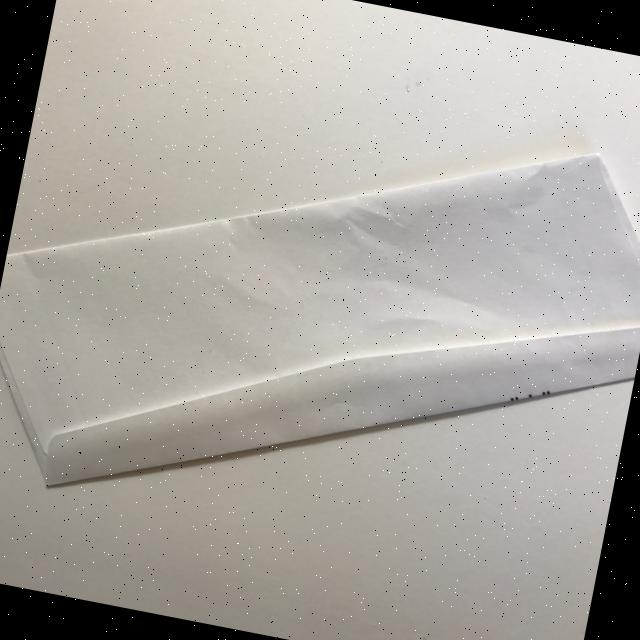paper: (0, 44, 640, 592)
